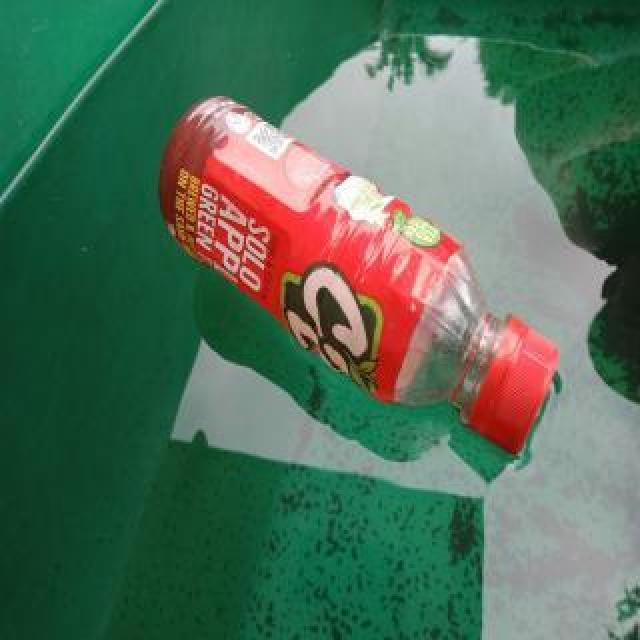bottle: (152, 87, 564, 457)
